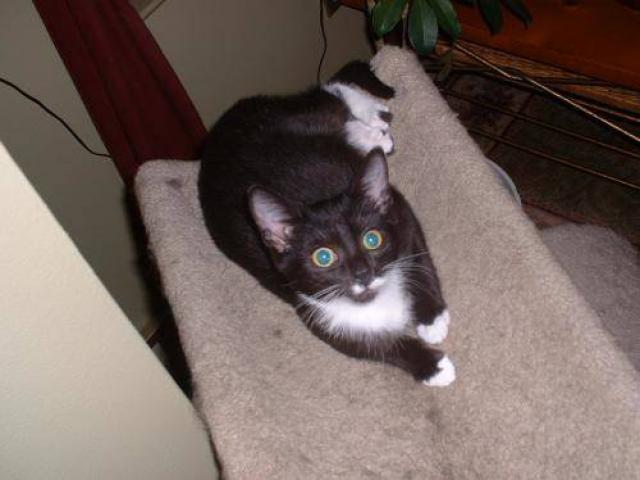cat: (205, 48, 459, 385)
